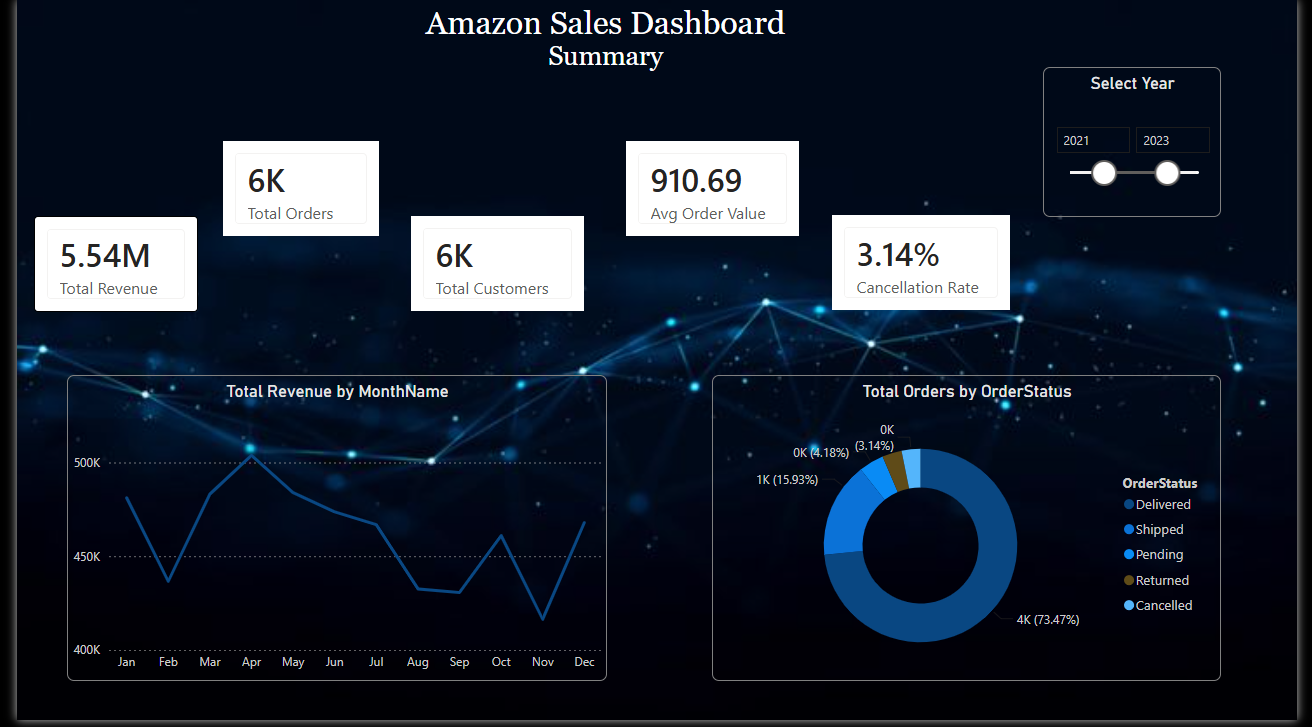

The page's visual inventory and layout, read from the dashboard file:
{"tool":"powerbi","page":{"name":"Summary","canvas":[1280,720],"ordinal":0},"visuals":[{"type":"cardVisual","fields":{"Data":["amazon_sales_clean.Total Revenue"]},"box":[17.1,215.7,163.8,96.4],"z":0},{"type":"cardVisual","fields":{"Data":["amazon_sales_clean.Total Orders"]},"box":[205.6,141.1,156.8,95.2],"z":1000},{"type":"cardVisual","fields":{"Data":["amazon_sales_clean.Total Customers"]},"box":[394.1,215.7,173.1,95.2],"z":2000},{"type":"cardVisual","fields":{"Data":["amazon_sales_clean.Avg Order Value"]},"box":[608.8,141.1,173.1,95.2],"z":3000},{"type":"cardVisual","fields":{"Data":["amazon_sales_clean.Cancellation Rate"]},"box":[815.4,214.7,177.7,95.2],"z":4000},{"type":"textbox","box":[362.8,0,452.5,80.6],"z":5000},{"type":"lineChart","fields":{"Y":["amazon_sales_clean.Total Revenue"],"Category":["DateTable.MonthName"]},"box":[50.4,374.9,539.2,306.4],"z":6000},{"type":"slicer","title":"Select Year","fields":{"Values":["DateTable.Year"]},"box":[1026,66.5,178,150],"z":7000},{"type":"donutChart","fields":{"Category":["amazon_sales_clean.OrderStatus"],"Y":["amazon_sales_clean.Total Orders"]},"box":[695.4,374.9,509,306.4],"z":8000}]}

Visuals, with their boxes in screenshot pixels (x1, y1, x2, y2), scaled from the page's 1280x720 canvas onto the 1312x727 screenshot:
cardVisual - amazon_sales_clean.Total Revenue: [18,218,185,315]
cardVisual - amazon_sales_clean.Total Orders: [211,142,371,239]
cardVisual - amazon_sales_clean.Total Customers: [404,218,581,314]
cardVisual - amazon_sales_clean.Avg Order Value: [624,142,801,239]
cardVisual - amazon_sales_clean.Cancellation Rate: [836,217,1018,313]
textbox: [372,0,836,81]
lineChart - amazon_sales_clean.Total Revenue x DateTable.MonthName: [52,379,604,688]
"Select Year" slicer: [1052,67,1234,219]
donutChart - amazon_sales_clean.OrderStatus x amazon_sales_clean.Total Orders: [713,379,1235,688]
